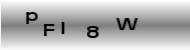8: (85, 24, 99, 39)
F: (42, 22, 56, 37)
W: (115, 17, 139, 31)
l: (59, 21, 65, 36)
p: (25, 11, 38, 25)
